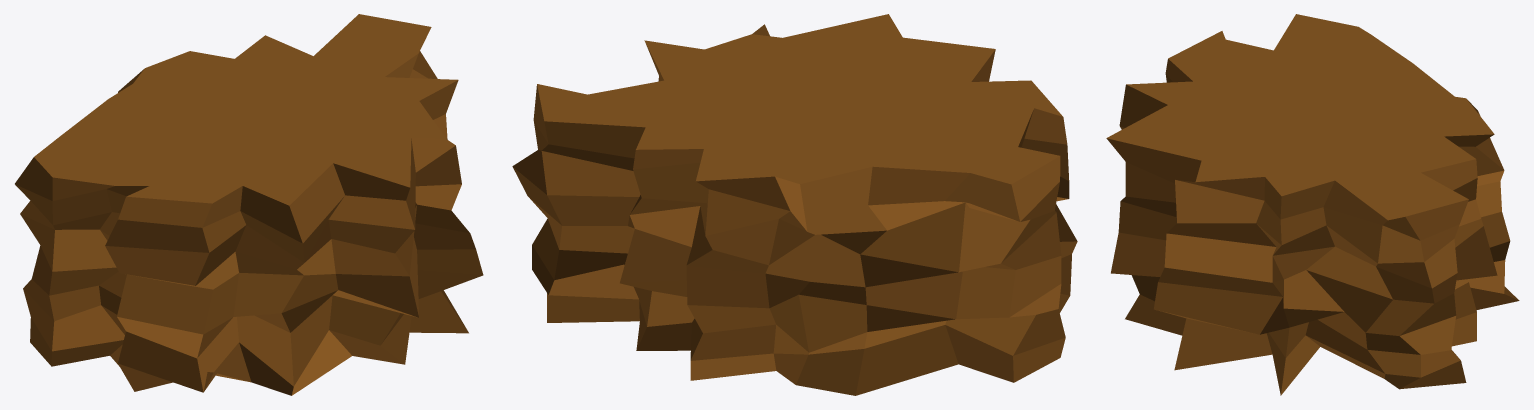
The model's file is Cliff_1.fbx.
3 renders of one model, left to right at view 1: azimuth 30°, elevation 25°; view 2: azimuth 150°, elevation 25°; view 3: azimuth 270°, elevation 25°, orthographic. The views are drawn at different scales.
Parts seen in each view (by area): view 1: Plane; view 2: Plane; view 3: Plane.
Boxes of the visible parts, bbox=[...] form: Plane: bbox=[15, 14, 483, 395]; Plane: bbox=[512, 14, 1077, 395]; Plane: bbox=[1106, 14, 1519, 395].
Size of the model in its own units: 189 by 88.55 by 156.
